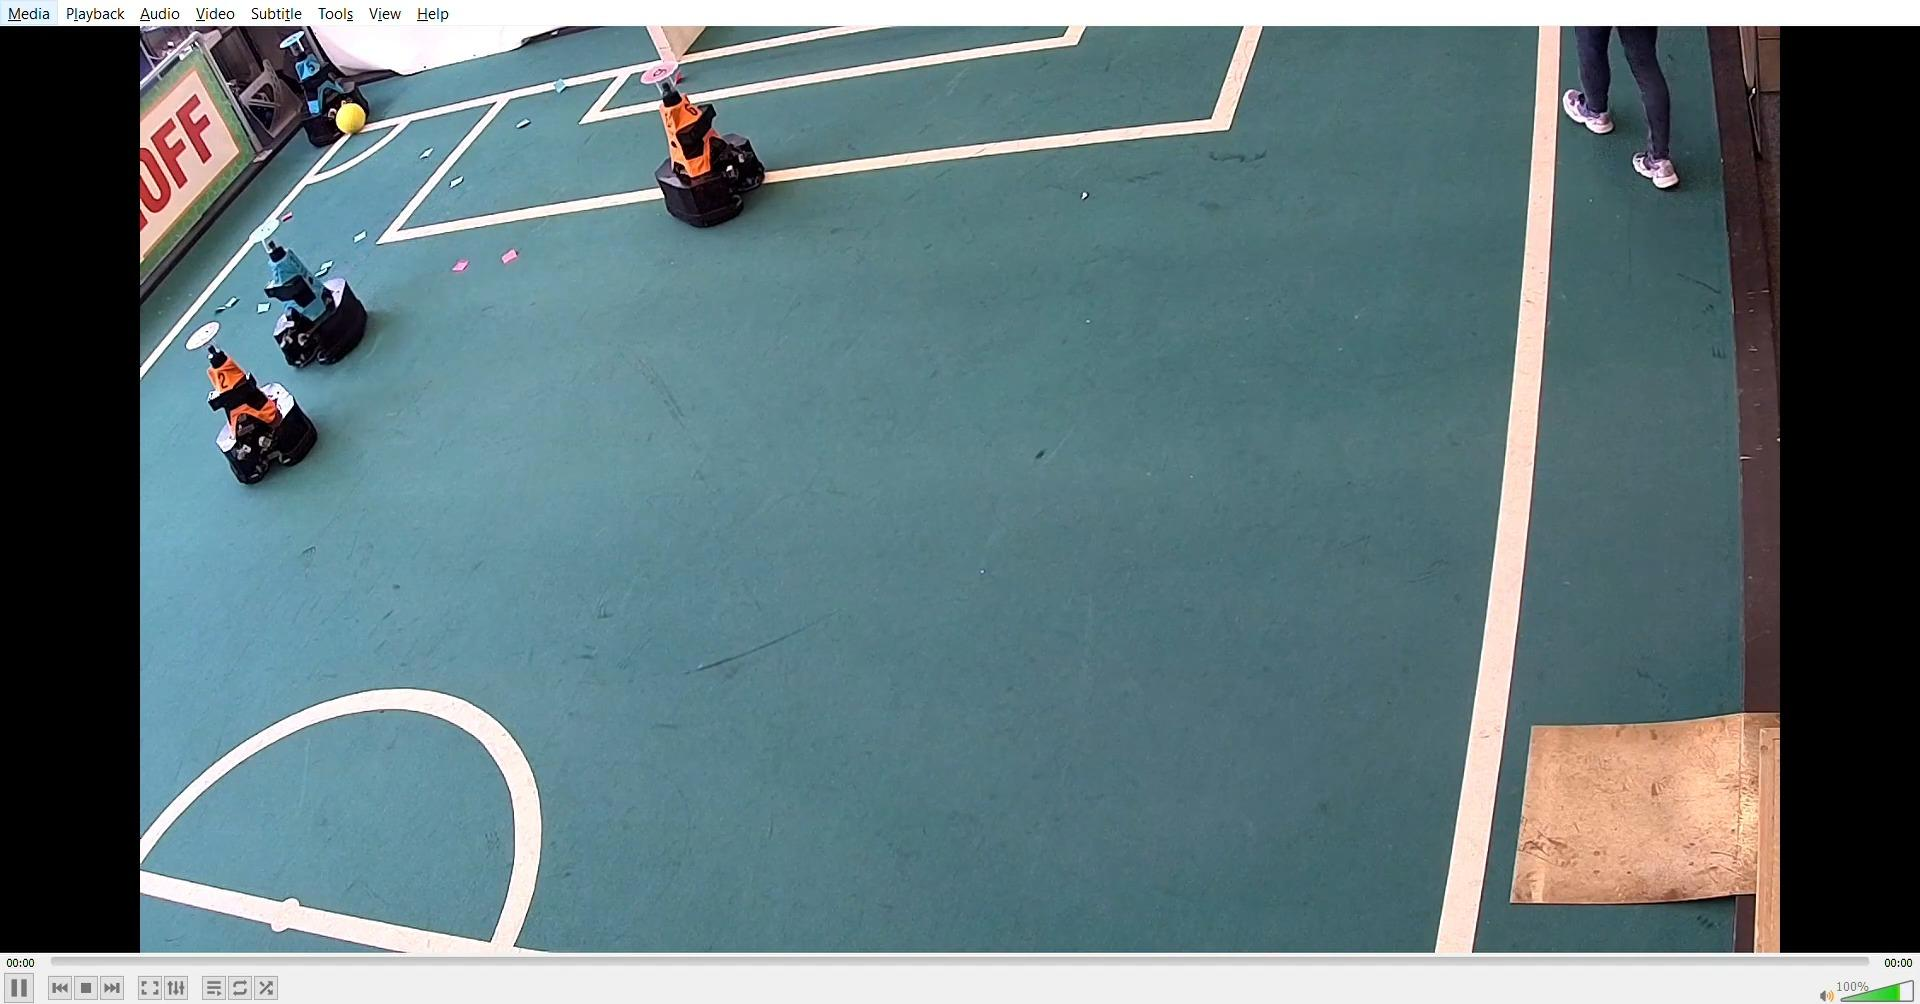Ball: (331, 99, 368, 137)
Team_Blue: (249, 215, 380, 367), (276, 30, 376, 143)
Team_Red: (185, 316, 323, 489), (639, 56, 768, 223)
